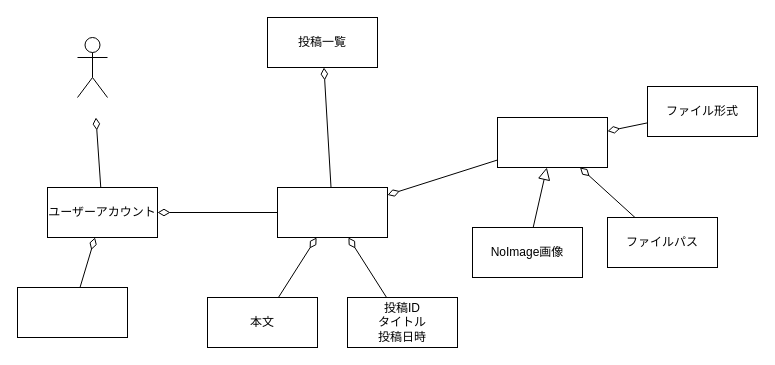
Some shapes in this 775 by 365 pixel diagram are drawn without their labels. The centre of each missing label's shape, as x and y in pixels:
"ユーザー" belongs at [92,67].
"ユーザーID ユーザー名 パスワード" belongs at [72,312].
"投稿" belongs at [332,212].
"投稿画像" belongs at [552,142].
